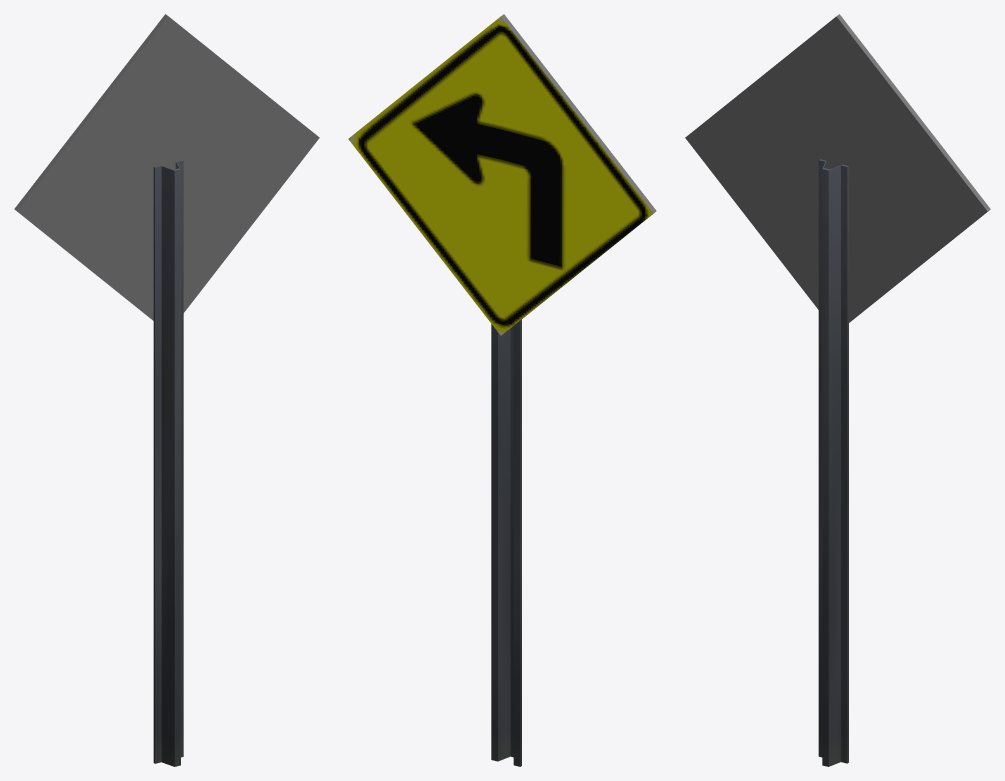
File: warning_left.obj
3 views of the same model, side by side, from view 1: azimuth 30°, elevation 25°; view 2: azimuth 150°, elevation 25°; view 3: azimuth 330°, elevation 25° (orthographic).
Parts seen in each view (by area): view 1: Mesh; view 2: Mesh; view 3: Mesh.
Part boxes in pixels (x1,y1,x2,y2): Mesh: (14,14,319,766); Mesh: (348,14,656,766); Mesh: (685,14,990,766).
Bounding box in the file's own units: 0.2382 × 0.5585 × 0.0181.
